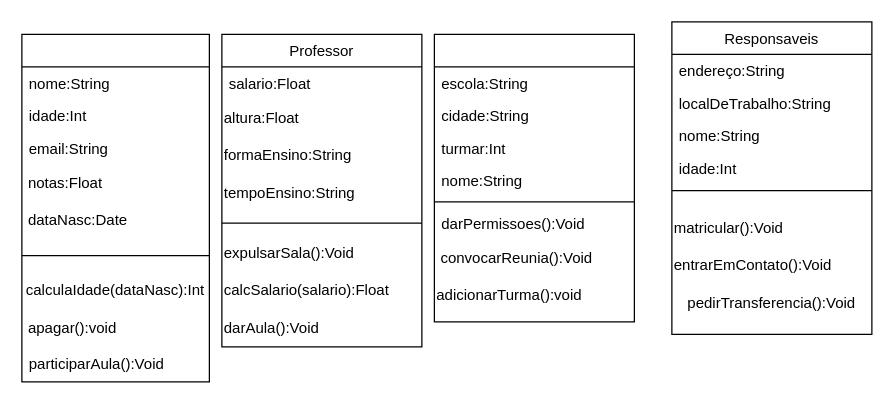
Image size: 894x408. Some labels were removed from this diagram. Each missing label, with the box of its shape:
Aluno: (21, 33, 209, 382)
Diretor: (433, 33, 634, 322)
